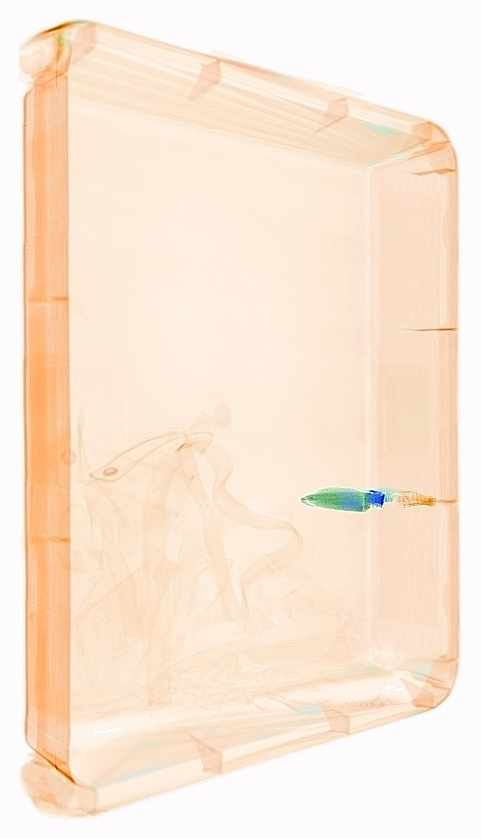Knife: (295, 482, 440, 516)
